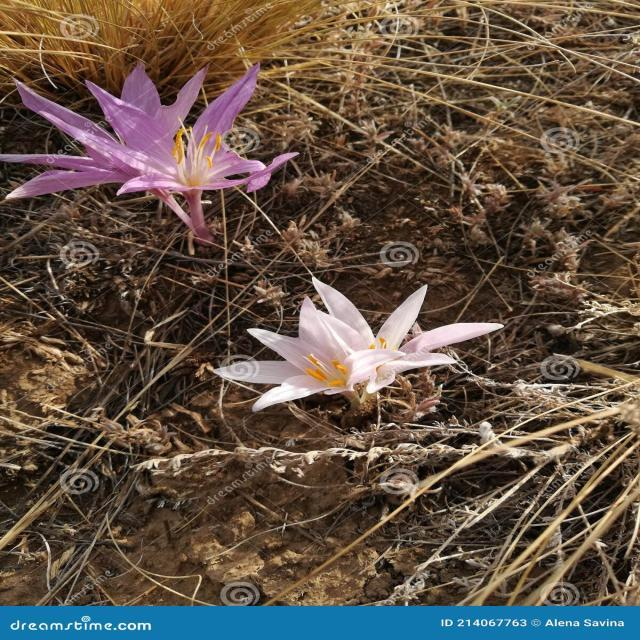Flower: (0, 55, 312, 235), (208, 276, 512, 421)
